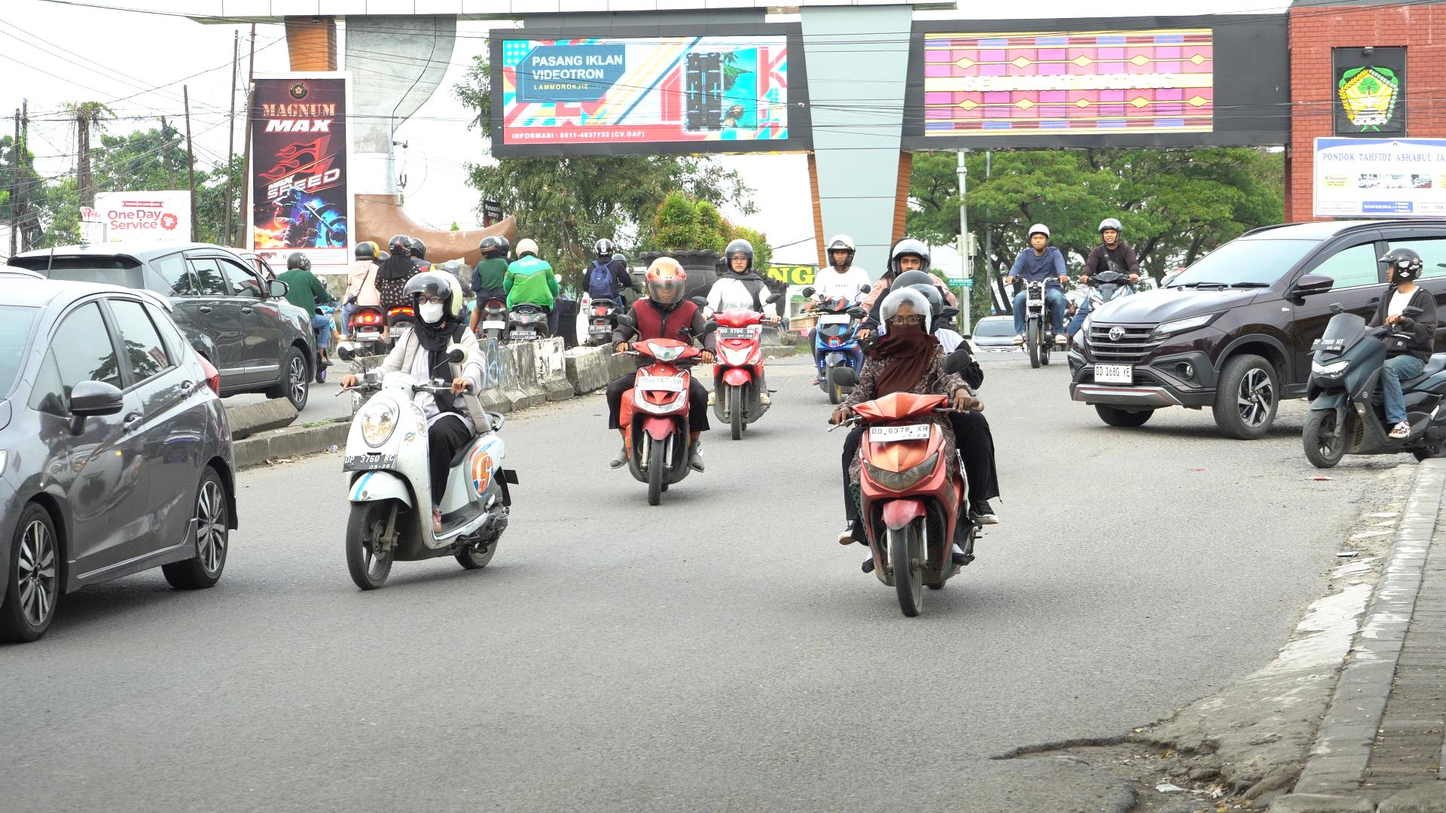number-plate: (868, 426, 930, 445), (340, 452, 394, 472), (719, 328, 754, 340)
